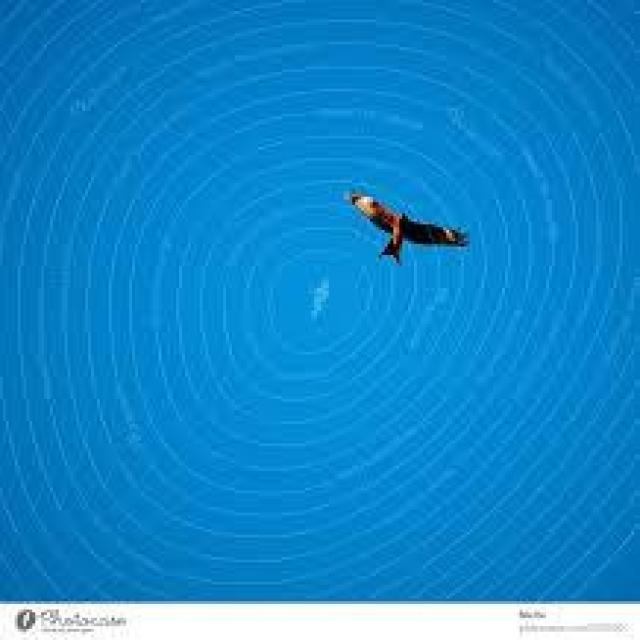bird: (348, 181, 470, 271)
